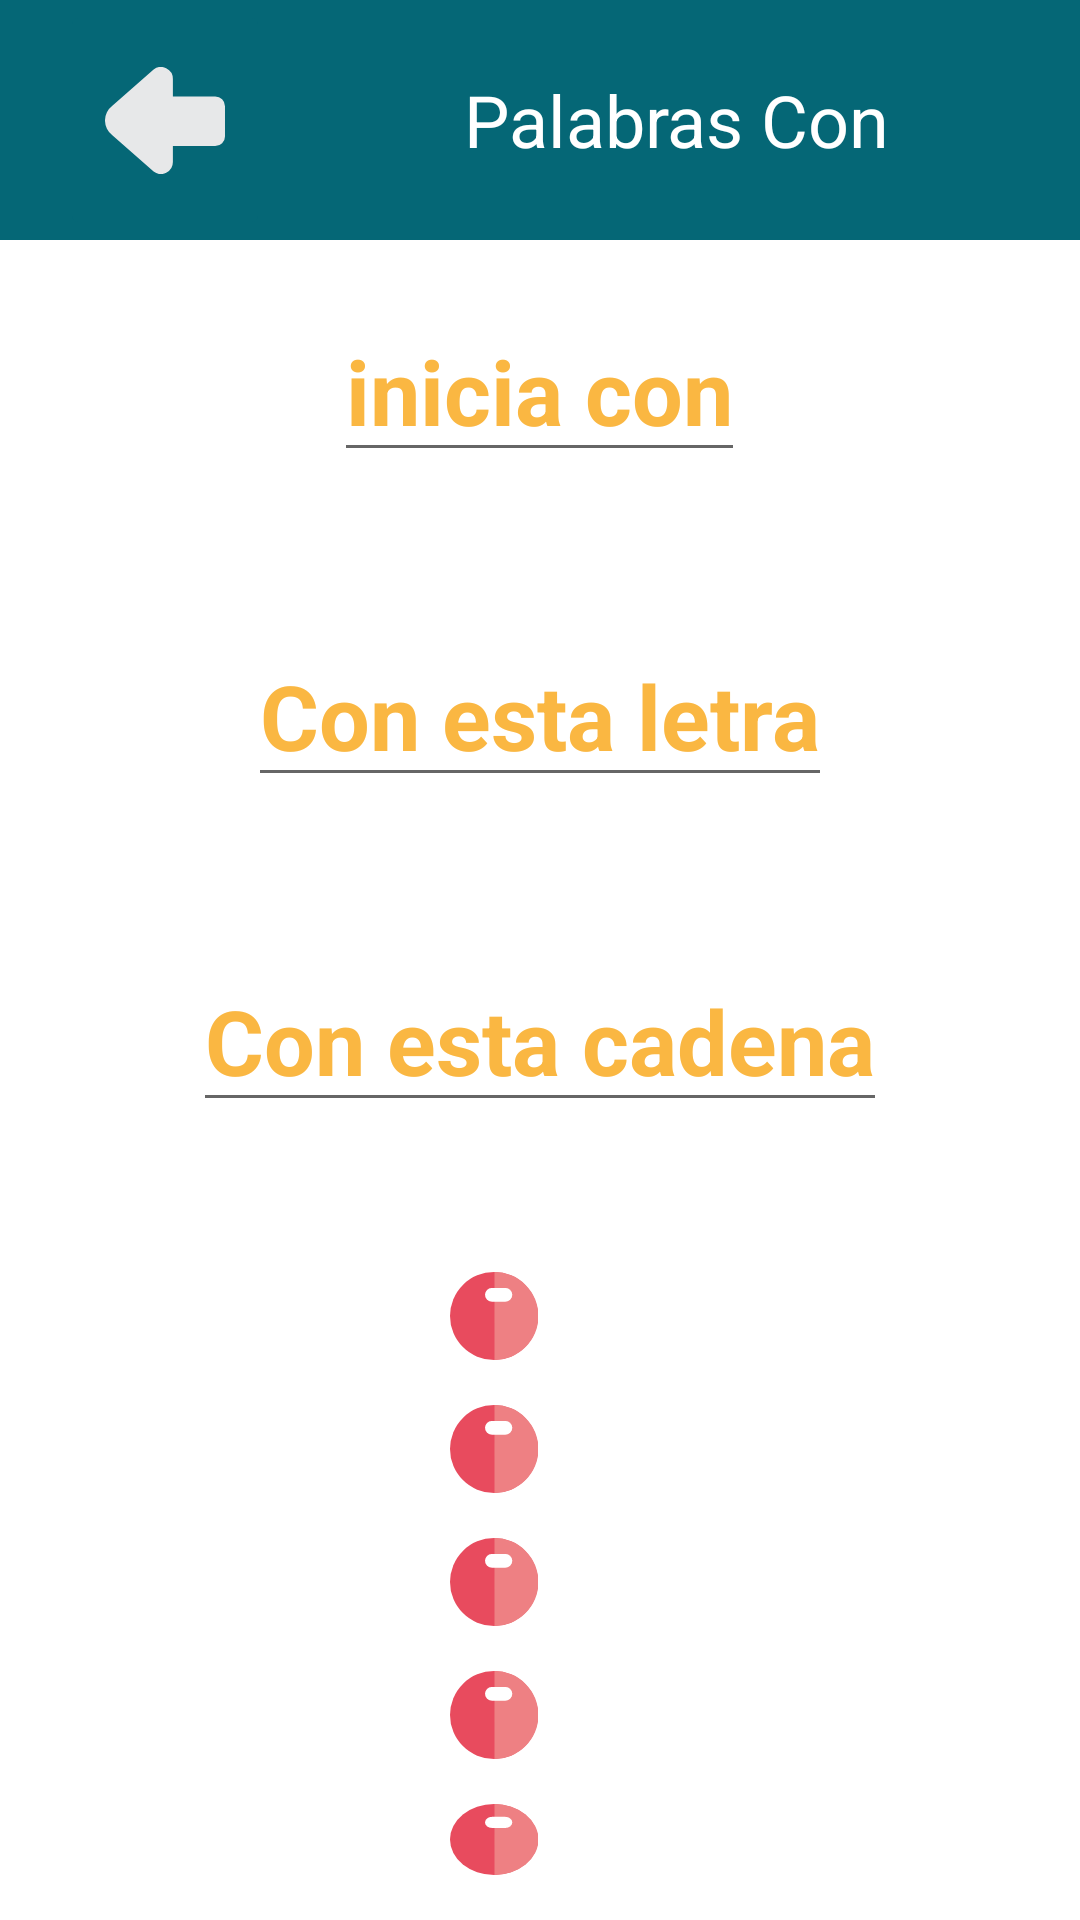

Point at icon controls on the screen. Image size 1080px×1920px, points as (x,y).
circulo rojo: (494,1316), (494,1449), (494,1582), (494,1715), (494,1839)
flechaatras: (165,120)
